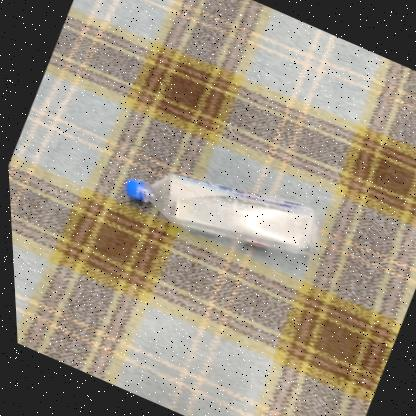Plastic: (122, 174, 315, 255)
